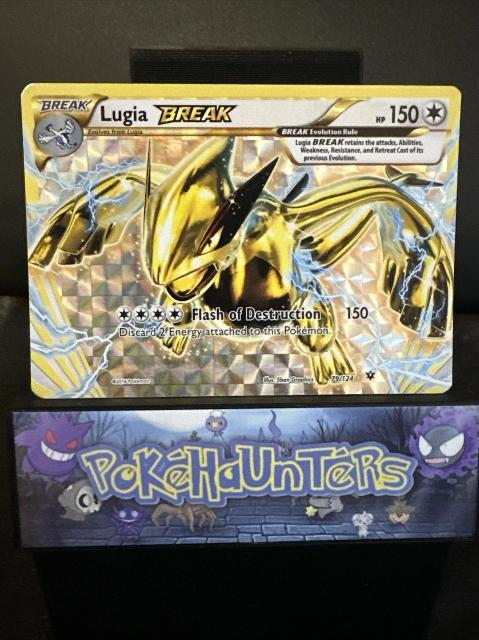Card: (17, 78, 469, 405)
Name: (97, 102, 245, 128)
